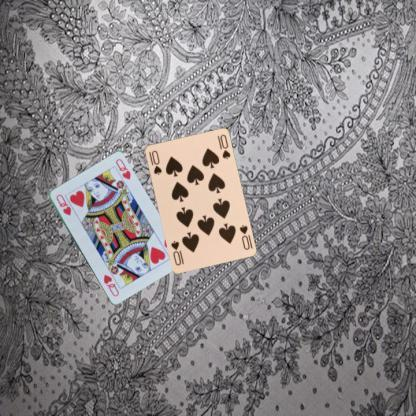10s: (146, 148, 163, 176), (236, 222, 250, 251)
Qh: (53, 191, 72, 217)
